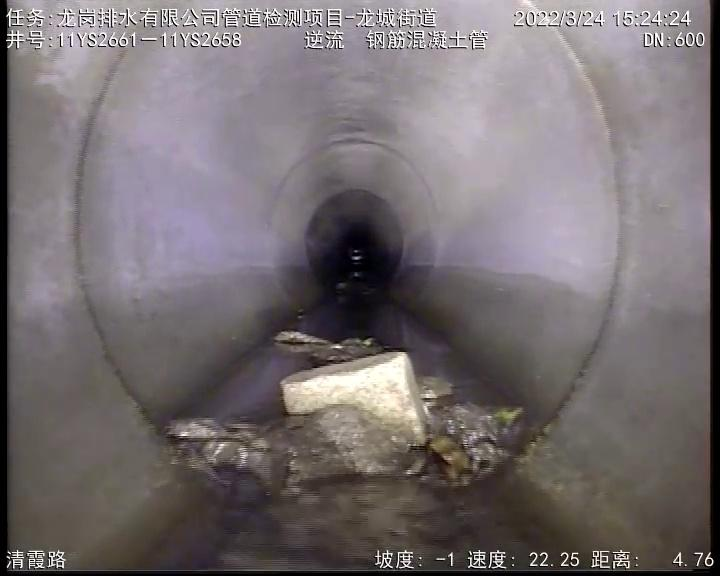ZAW: (166, 328, 522, 488)
